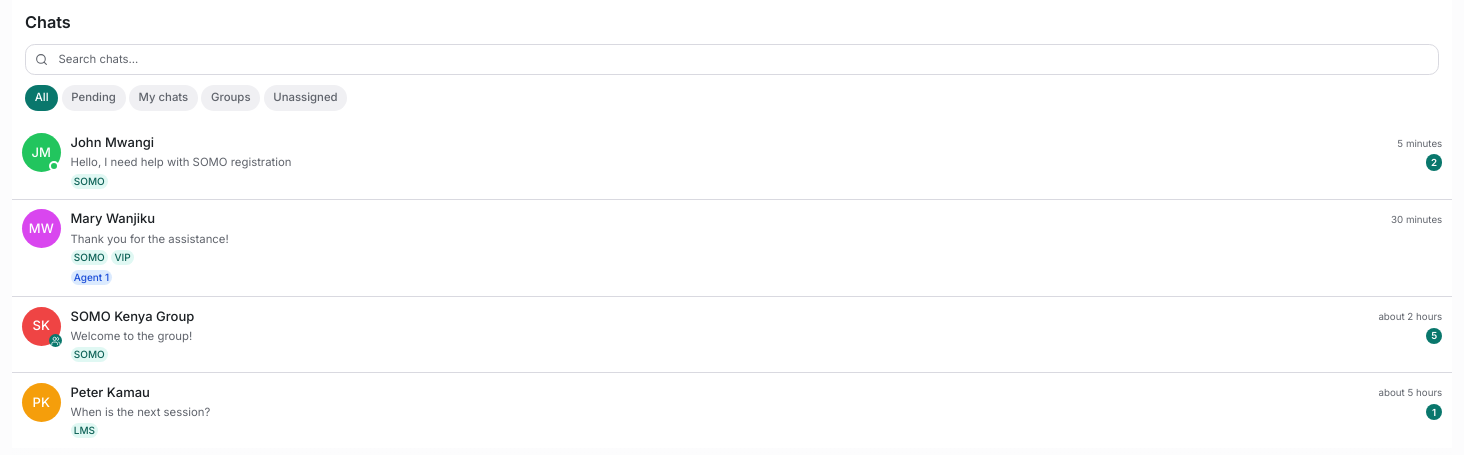
Test: ChatList › filtering › filters by "Pending" status
The width and height of the screenshot is (1464, 455).
Expected: the text "John Mwangi" is shown, [70,133,154,153]
Click the button "Pending".
click(94, 98)  # box [62,84,126,110]
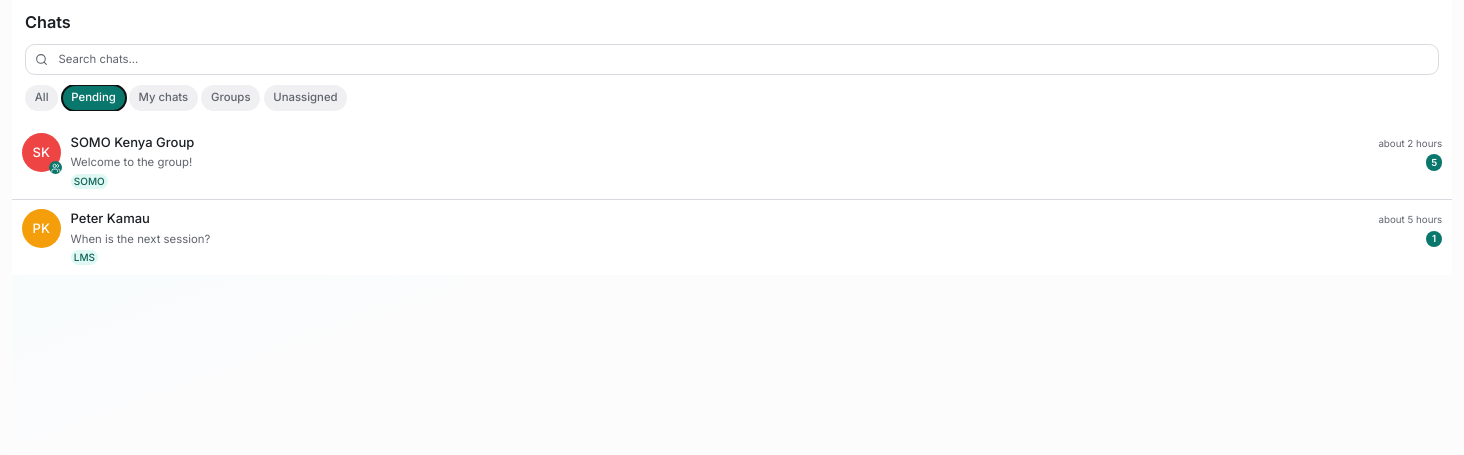
Expected: the text "SOMO Kenya Group" is shown, [70,133,194,153]
Now the button "John Mwangi" is gone
Now the button "Mary Wanjiku" is gone
